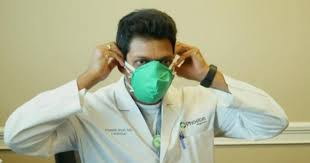masked: (115, 12, 179, 105)
